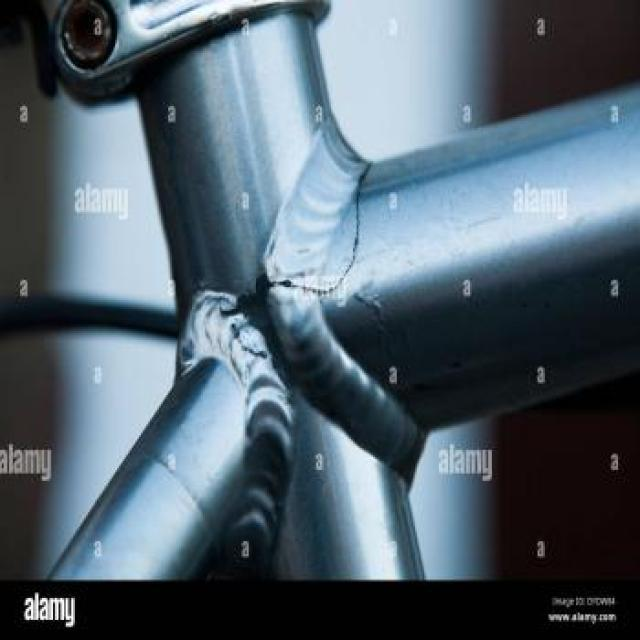Dry Waste: (160, 181, 420, 483)
